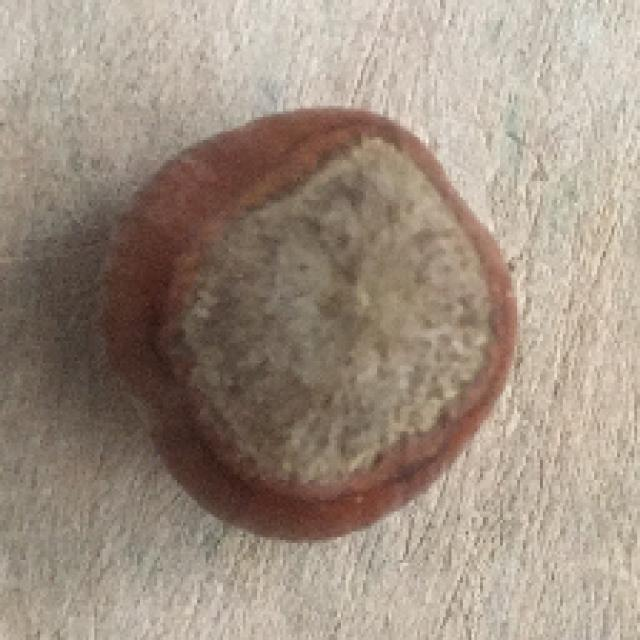qualityHazelnut: (100, 103, 520, 540)
